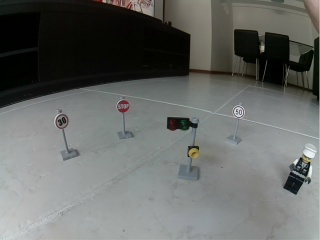Person: (283, 142, 317, 195)
Red Traffic Light: (166, 115, 202, 182)
Speed Limit 30: (54, 114, 70, 130)
Speed Limit 50: (233, 105, 245, 118)
Stop Sign: (116, 100, 130, 114)
